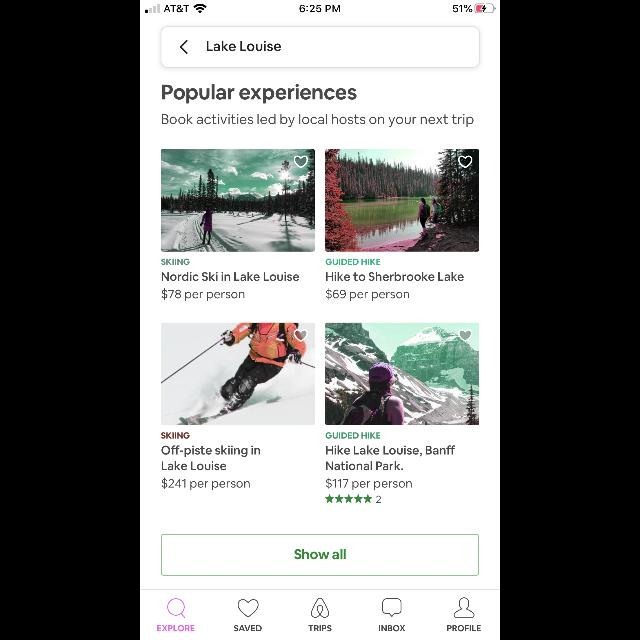icon: (326, 493, 372, 502), (382, 598, 402, 618), (454, 598, 474, 618), (168, 598, 186, 618), (238, 599, 258, 617), (294, 156, 308, 168), (458, 156, 472, 168), (294, 330, 308, 342), (458, 330, 472, 342), (180, 40, 188, 54)
image: (325, 148, 479, 252), (161, 149, 315, 251), (325, 323, 479, 425), (162, 323, 314, 425), (311, 598, 329, 618)
input: (160, 26, 480, 68)
text: (162, 114, 474, 128), (162, 84, 356, 104), (326, 446, 456, 470), (162, 445, 260, 471), (162, 272, 298, 282), (162, 288, 245, 302), (327, 272, 463, 280), (162, 478, 250, 490), (326, 478, 412, 490), (327, 288, 409, 300), (207, 40, 281, 51), (326, 432, 380, 440), (326, 258, 380, 264), (162, 258, 190, 266), (158, 625, 195, 631), (447, 625, 481, 631), (161, 432, 189, 438), (234, 625, 262, 631), (379, 625, 405, 631), (308, 625, 332, 631), (376, 496, 382, 502)
textbutton: (161, 534, 479, 576)
uppertaskbar: (140, 0, 500, 14)
